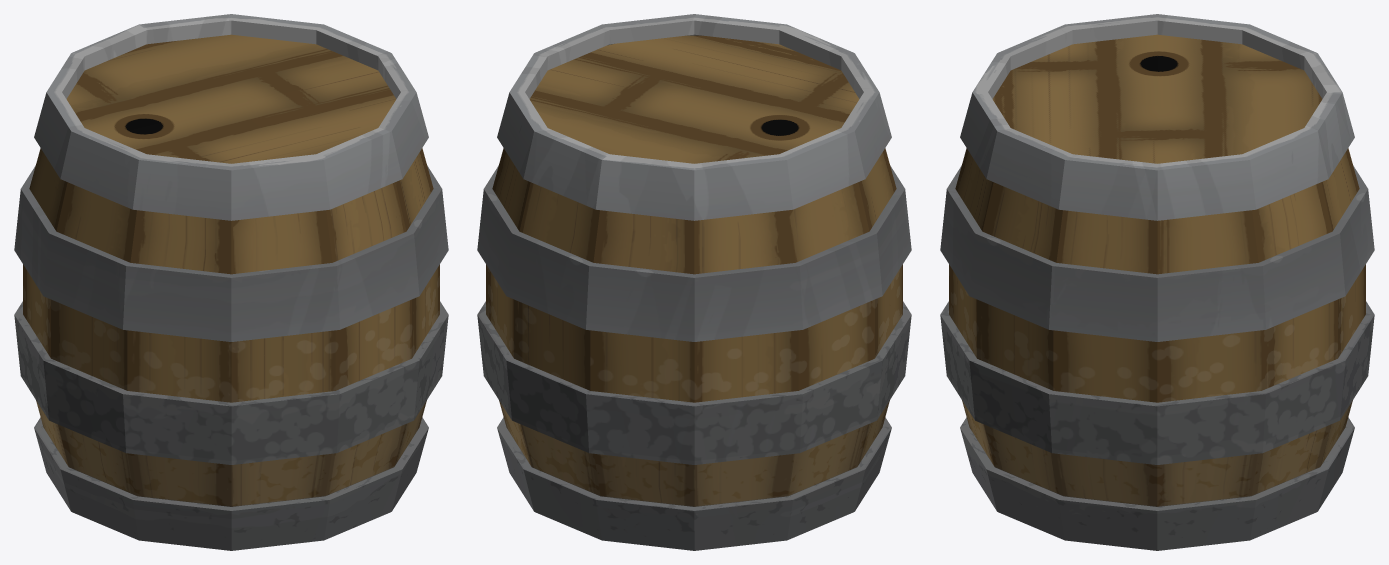
Rendered from Barrel.fbx.
3 renders of one model, left to right at view 1: azimuth 30°, elevation 25°; view 2: azimuth 150°, elevation 25°; view 3: azimuth 270°, elevation 25°, orthographic.
Visible parts, largest first — view 1: Cylinder.001; view 2: Cylinder.001; view 3: Cylinder.001.
Boxes of the visible parts, <box> form: Cylinder.001: <box>14,14,448,550</box>; Cylinder.001: <box>477,14,911,550</box>; Cylinder.001: <box>940,14,1374,550</box>.
Size of the model in its own units: 3289 by 3179 by 3289.
